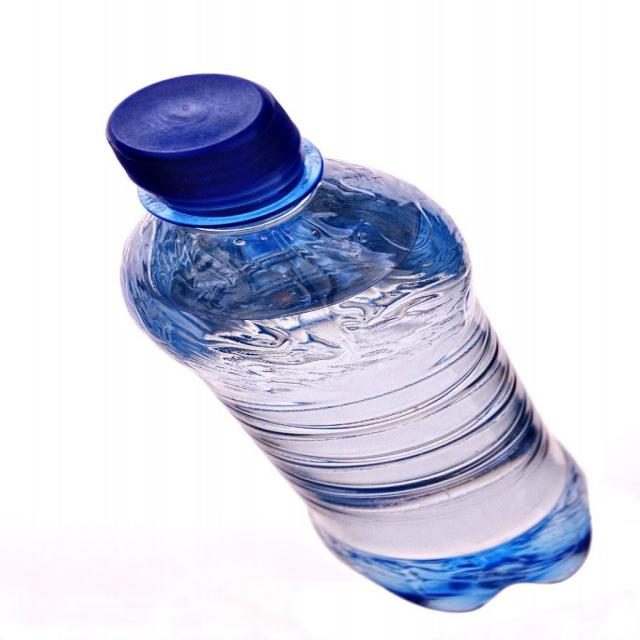bottle: (101, 33, 574, 624)
